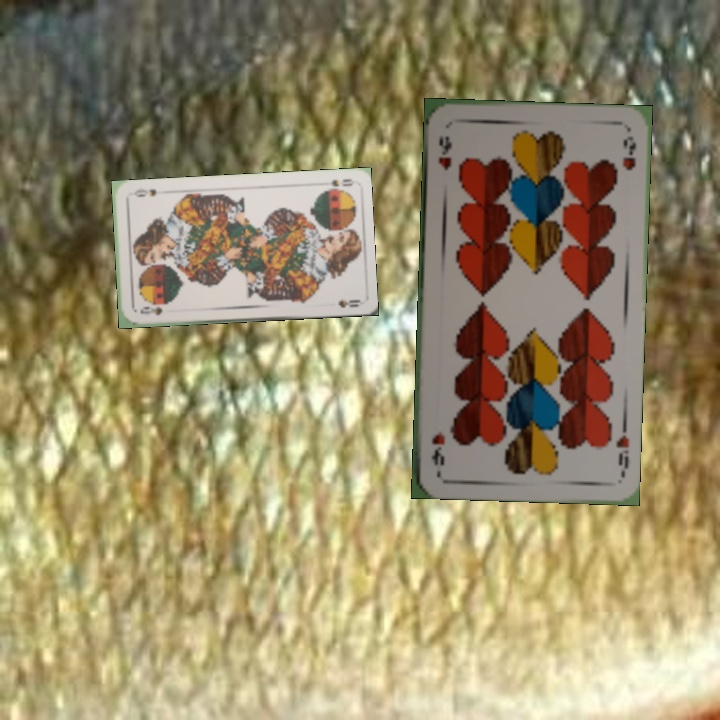H9: (612, 420, 632, 471), (434, 131, 455, 173)
SO: (136, 302, 165, 317), (327, 175, 355, 189)
